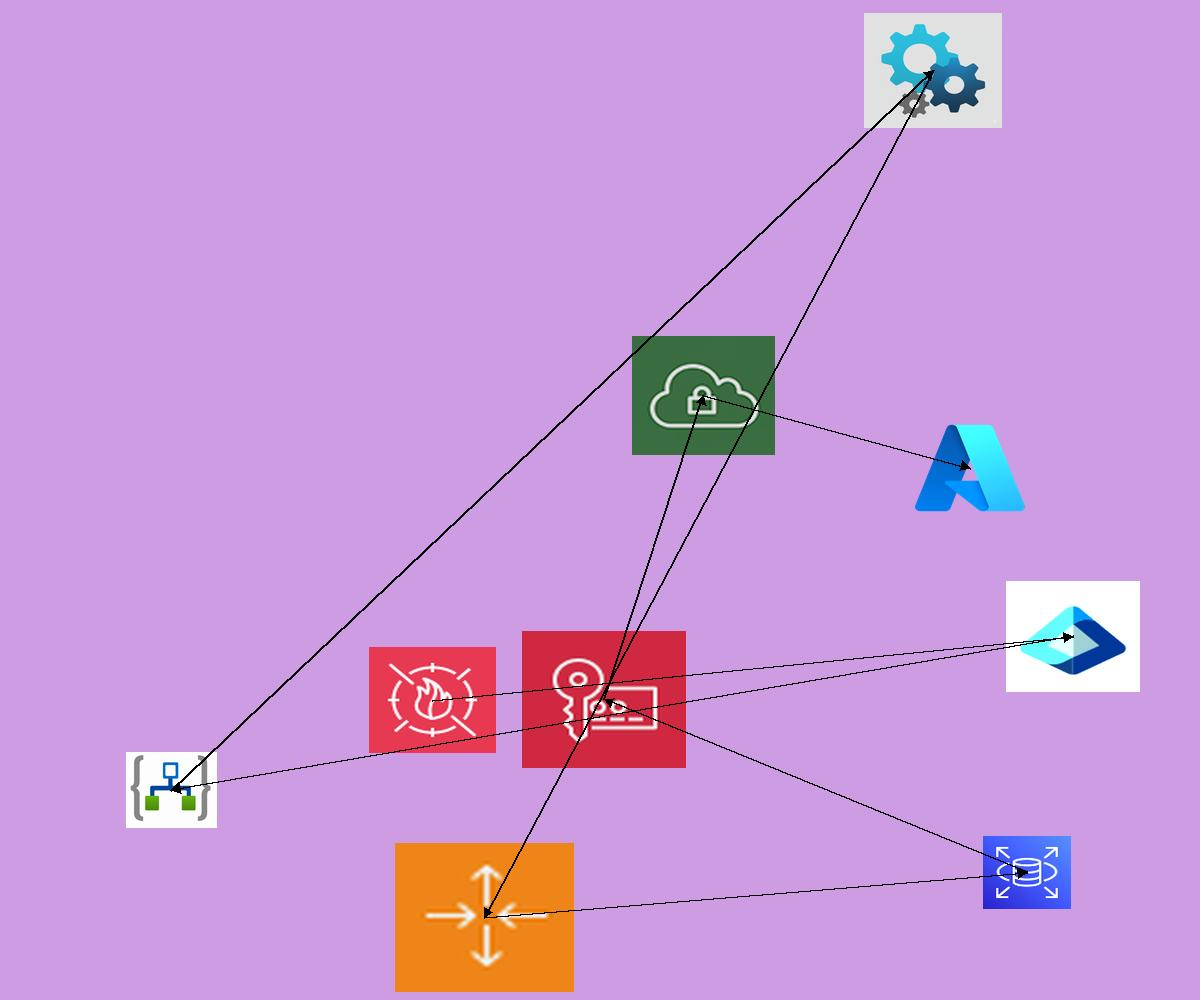AWS-Key-Management-Service: (522, 631, 686, 768)
AWS-Private_vpc: (632, 336, 775, 455)
AWS-RDS: (983, 836, 1071, 909)
AWS-Scaling-group: (395, 843, 574, 992)
AWS-WAF: (369, 647, 496, 753)
Azure_api: (864, 13, 1002, 128)
Azure_integration-204-Logic-Apps: (126, 752, 217, 828)
Azure_microsoft_entra: (1006, 581, 1140, 692)
Azure_services: (910, 418, 1030, 518)
